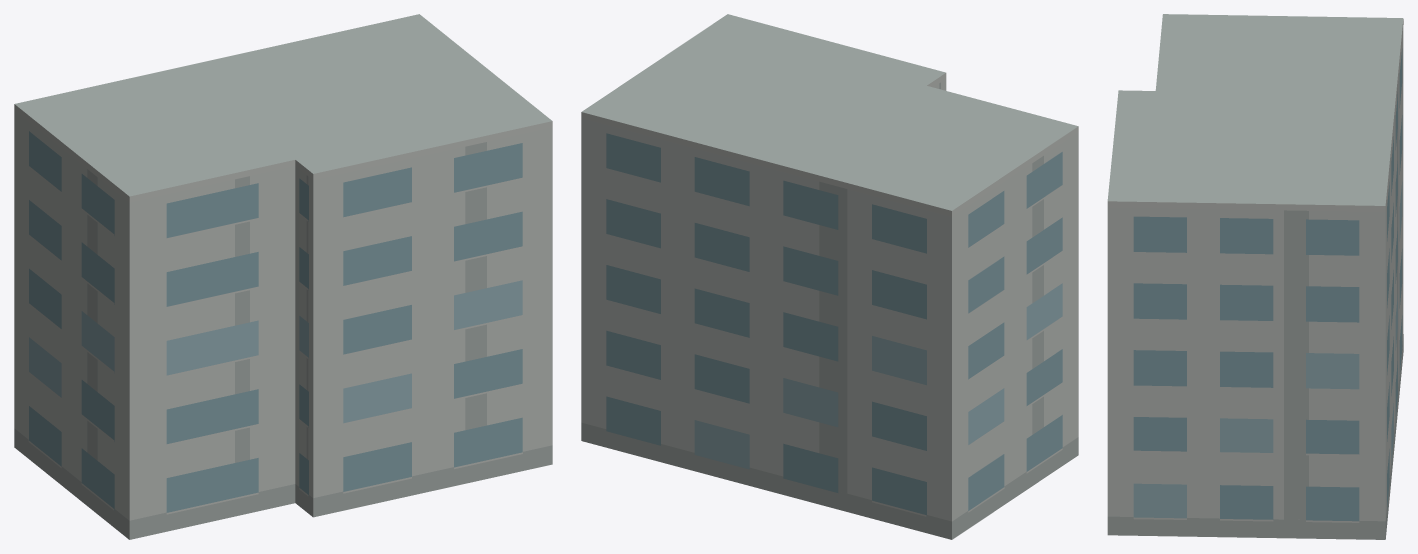
Rendered from survey-upis-32570582.glb.
3 renders of one model, left to right at view 1: azimuth 30°, elevation 25°; view 2: azimuth 150°, elevation 25°; view 3: azimuth 270°, elevation 25°, orthographic. The views are drawn at different scales.
Parts seen in each view (by area): view 1: survey-upis-32570582.tmp; view 2: survey-upis-32570582.tmp; view 3: survey-upis-32570582.tmp.
Part boxes in pixels (box(x1,y1,x2,y2)): survey-upis-32570582.tmp: box(14, 14, 552, 539); survey-upis-32570582.tmp: box(581, 14, 1078, 539); survey-upis-32570582.tmp: box(1107, 14, 1403, 539).
Size of the model in its own units: 16.28 by 13.2 by 10.61.
